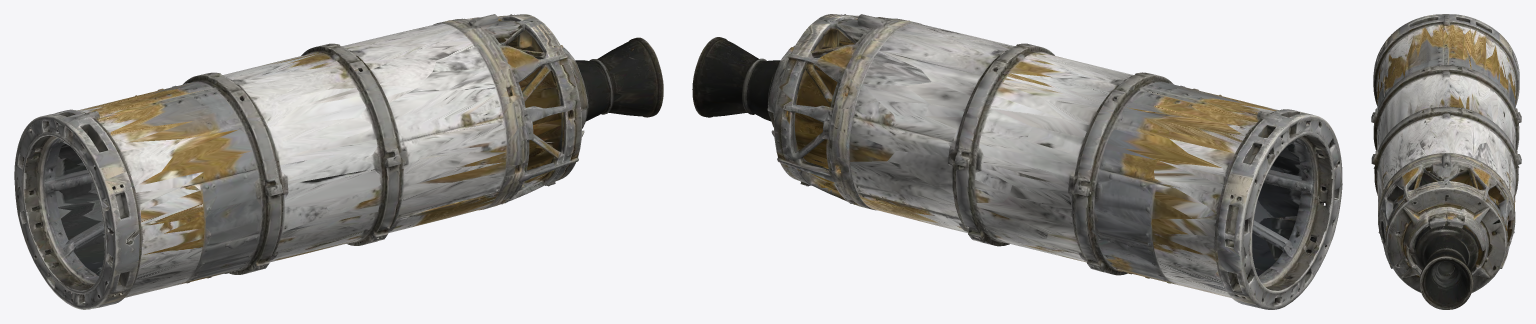
File: upper-stage.glb
The picture shows the model from 3 angles, left to right: view 1: azimuth 30°, elevation 25°; view 2: azimuth 150°, elevation 25°; view 3: azimuth 270°, elevation 25°; orthographic projection. The views are drawn at different scales.
Parts seen in each view (by area): view 1: Mesh_0; view 2: Mesh_0; view 3: Mesh_0.
Boxes of the visible parts, <box> form: Mesh_0: <box>14,14,663,309</box>; Mesh_0: <box>692,14,1342,309</box>; Mesh_0: <box>1371,14,1521,309</box>.
Bounding box in the file's own units: 2 × 0.6207 × 0.6255.
Materials: 1 (1 with a texture image).
